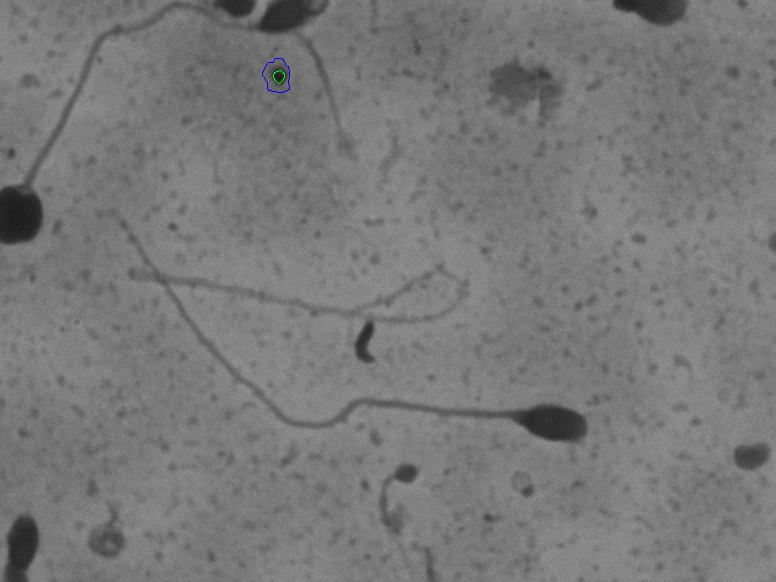Abnormal: (217, 318, 629, 494)
